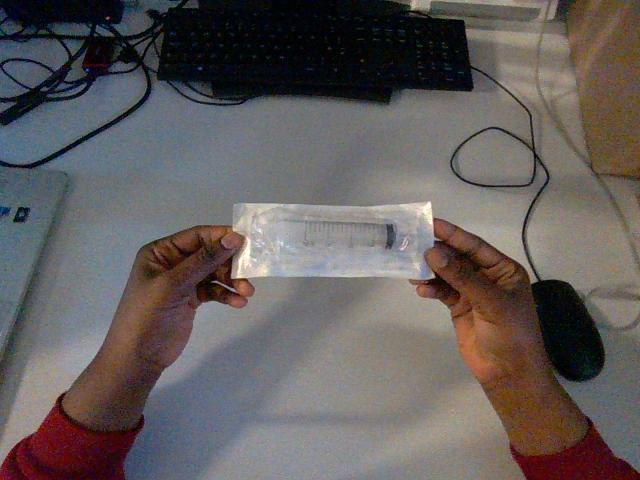syringe: (232, 202, 433, 278)
